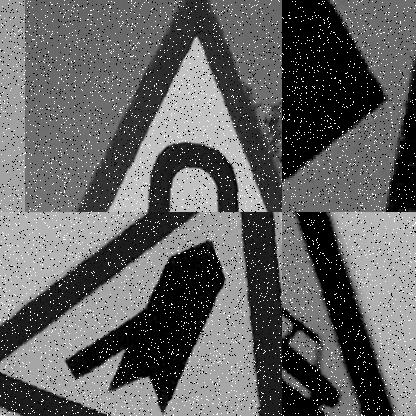Cross Roads: (0, 212, 282, 416)
Steep Descent: (282, 212, 399, 416)
U-Turn: (83, 0, 282, 212)
